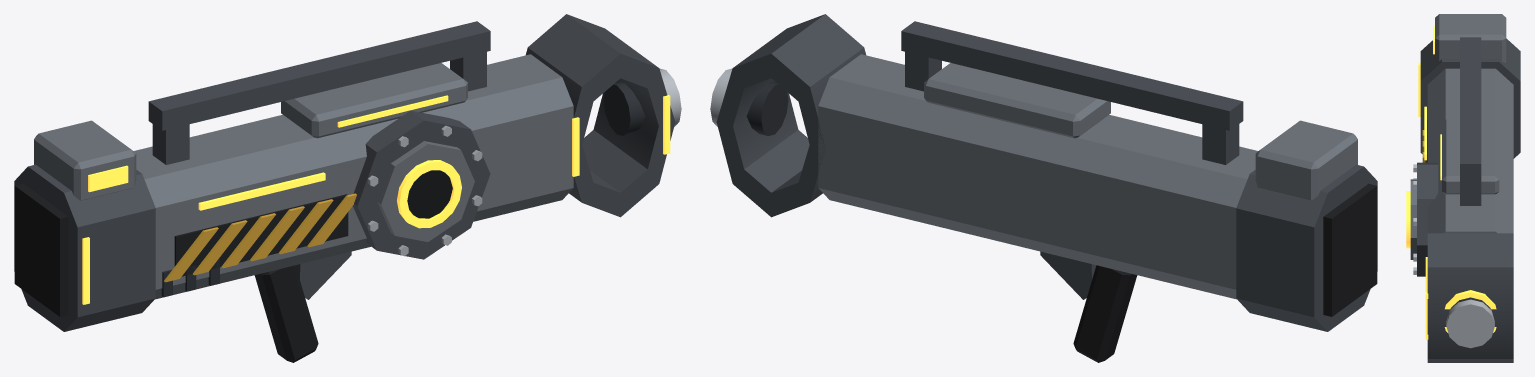
The model's file is opr_wpn_breach_charge_c.glb.
The picture shows the model from 3 angles, left to right: view 1: azimuth 30°, elevation 25°; view 2: azimuth 150°, elevation 25°; view 3: azimuth 270°, elevation 25°; orthographic projection. The views are drawn at different scales.
Visible parts, largest first — view 1: mesh_intact; view 2: mesh_intact; view 3: mesh_intact.
Boxes of the visible parts, left/top/right/bottom form: mesh_intact: left=14, top=14, right=681, bottom=362; mesh_intact: left=710, top=14, right=1377, bottom=362; mesh_intact: left=1406, top=14, right=1520, bottom=362.
Bounding box in the file's own units: 0.804 × 0.3492 × 0.16.
